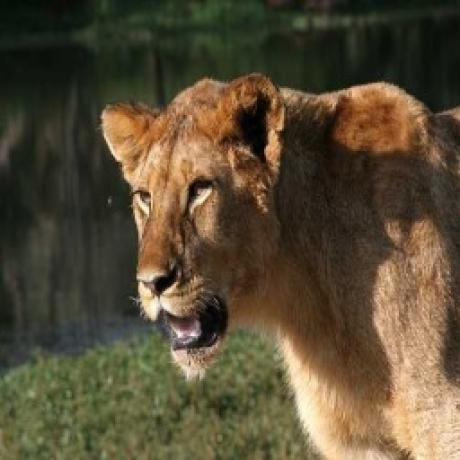Lion: (98, 68, 459, 460)
